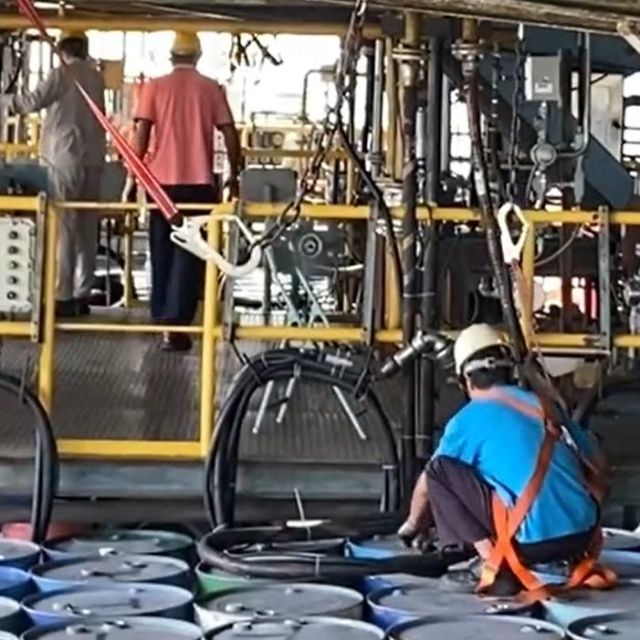Arnes_seguridad: (470, 386, 619, 595)
